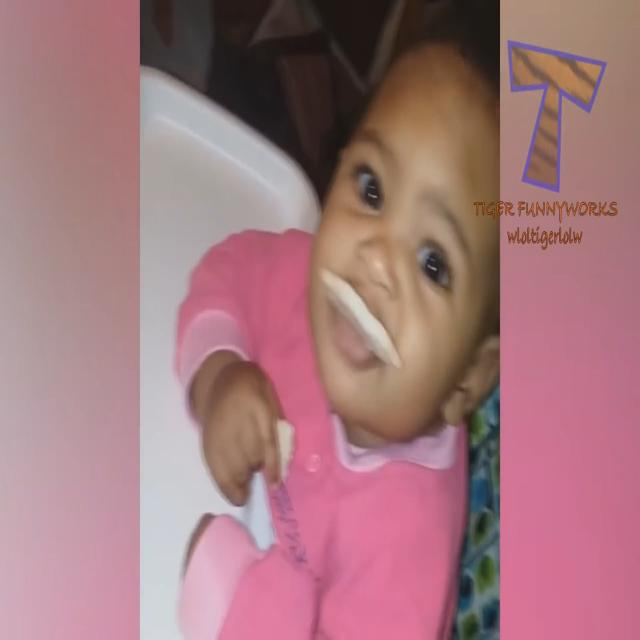safe: (309, 0, 499, 502)
